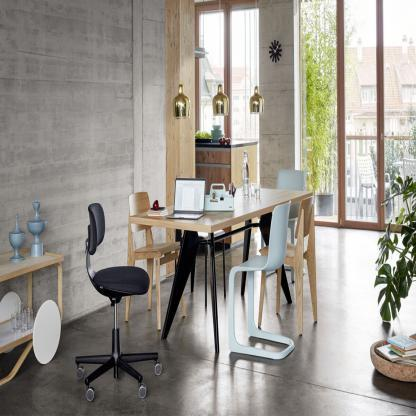chair: (75, 196, 155, 413), (223, 199, 292, 370), (128, 188, 187, 330), (283, 192, 324, 331), (350, 148, 396, 220), (399, 153, 416, 211), (274, 168, 308, 195)
light: (172, 0, 195, 129), (212, 0, 231, 128), (244, 0, 263, 117)
table: (123, 182, 323, 354), (0, 249, 64, 369)
